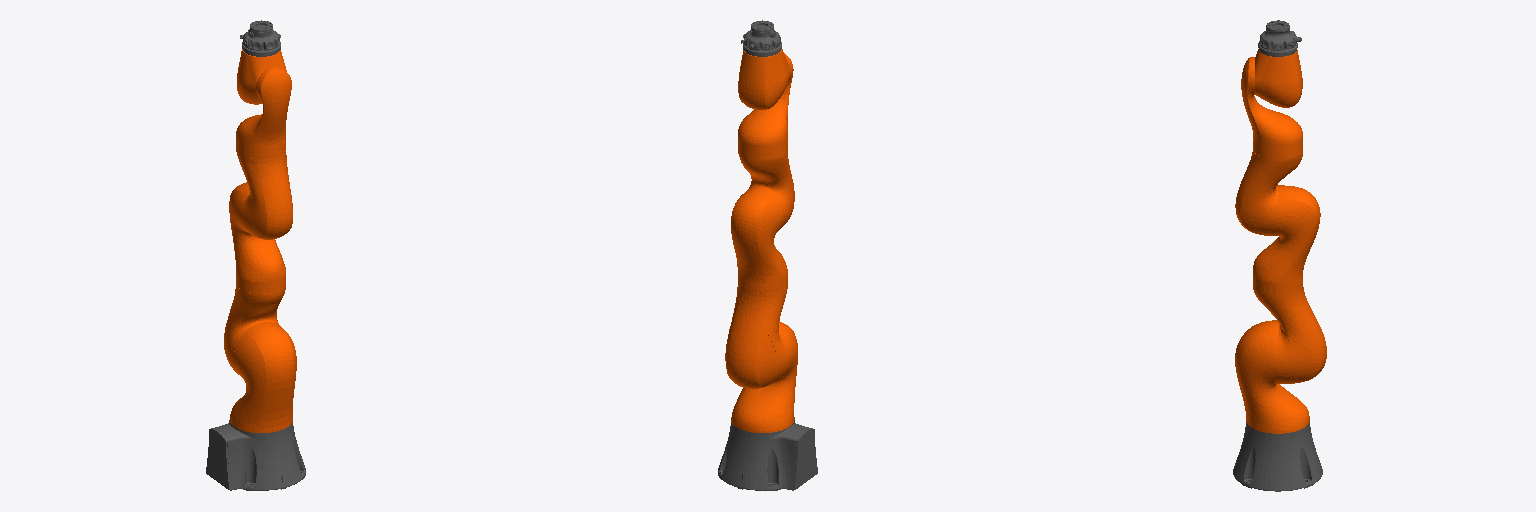
URDF robot description (iiwa14):
<?xml version="1.0" ?>
<!-- =================================================================================== -->
<!-- |    This document was autogenerated by xacro from iiwa_ezgripper.urdf.xacro      | -->
<!-- |    EDITING THIS FILE BY HAND IS NOT RECOMMENDED                                 | -->
<!-- =================================================================================== -->
<robot name="iiwa14">
  <material name="Black">
    <color rgba="0.0 0.0 0.0 1.0"/>
  </material>
  <material name="Blue">
    <color rgba="0.0 0.0 0.8 1.0"/>
  </material>
  <material name="Green">
    <color rgba="0.0 0.8 0.0 1.0"/>
  </material>
  <material name="Grey">
    <color rgba="0.4 0.4 0.4 1.0"/>
  </material>
  <material name="Orange">
    <color rgba="1.0 0.4235294117647059 0.0392156862745098 1.0"/>
  </material>
  <material name="Brown">
    <color rgba="0.8705882352941177 0.8117647058823529 0.7647058823529411 1.0"/>
  </material>
  <material name="Red">
    <color rgba="0.8 0.0 0.0 1.0"/>
  </material>
  <material name="White">
    <color rgba="1.0 1.0 1.0 1.0"/>
  </material>
  <material name="LightGrey">
    <color rgba="0.3 0.3 0.3 1.0"/>
  </material>
  <!--xacro:macro name="ezgripper" params="*origin"-->
  <!-- joints -->
  <!-- transmissions for Gazebo -->
  <gazebo>
    <plugin filename="libgazebo_ros_control.so" name="gazebo_ros_control">
   </plugin>
  </gazebo>
  <!-- Fix to world just for testing -->
  <link name="front_base"/>
  <!--joint between {parent} and link_0-->
  <joint name="front_base_F_base_joint" type="fixed">
    <origin rpy="0 0 0" xyz="0 0 0.015"/>
    <parent link="front_base"/>
    <child link="F_link_0"/>
  </joint>
  <link name="F_link_0">
    <inertial>
      <origin rpy="0 0 0" xyz="-0.1 0 0.07"/>
      <mass value="5"/>
      <inertia ixx="0.05" ixy="0" ixz="0" iyy="0.06" iyz="0" izz="0.03"/>
    </inertial>
    <visual>
      <origin rpy="0 0 0" xyz="0 0 0"/>
      <geometry>
        <mesh filename="package://iiwas_description/meshes/visual/link_0.stl"/>
      </geometry>
      <material name="Grey"/>
    </visual>
    <collision>
      <origin rpy="0 0 0" xyz="0 0 0"/>
      <geometry>
        <mesh filename="package://iiwas_description/meshes/collision/link_0.stl"/>
      </geometry>
      <material name="Grey"/>
    </collision>
    <self_collision_checking>
      <origin rpy="0 0 0" xyz="0 0 0"/>
      <geometry>
        <capsule length="0.25" radius="0.15"/>
      </geometry>
    </self_collision_checking>
  </link>
  <!-- joint between link_0 and link_1 -->
  <joint name="F_joint_1" type="revolute">
    <parent link="F_link_0"/>
    <child link="F_link_1"/>
    <origin rpy="0 0 0" xyz="0 0 0.1575"/>
    <axis xyz="0 0 1"/>
    <limit effort="320" lower="-2.9670597283903604" upper="2.9670597283903604" velocity="1.4835298641951802"/>
    <safety_controller k_position="1" k_velocity="10" soft_lower_limit="-2.9321531433504737" soft_upper_limit="2.9321531433504737"/>
    <dynamics damping="0.5"/>
  </joint>
  <link name="F_link_1">
    <inertial>
      <origin rpy="0 0 0" xyz="0 -0.03 0.12"/>
      <!--        <origin xyz="0.003508 -0.001602 0.171113" rpy="0 0 0"/>  &lt;!&ndash; inertial from sl but in different coordinate system &ndash;&gt;-->
      <mass value="3.947808"/>
      <!--        <inertia ixx="0.004554"  ixy="0.000001"  ixz="-0.000002" iyy="0.004542" iyz="0.000005" izz="0.000289" />-->
      <!--        <inertia ixx="0.4554"  ixy="0.0001"  ixz="-0.0002" iyy="0.4542" iyz="0.0005" izz="0.0289" />-->
      <inertia ixx="0.1" ixy="0" ixz="0" iyy="0.09" iyz="0" izz="0.02"/>
    </inertial>
    <visual>
      <origin rpy="0 0 0" xyz="0 0 0"/>
      <geometry>
        <mesh filename="package://iiwas_description/meshes/visual/link_1.stl"/>
      </geometry>
      <material name="Orange"/>
    </visual>
    <collision>
      <origin rpy="0 0 0" xyz="0 0 0"/>
      <geometry>
        <mesh filename="package://iiwas_description/meshes/collision/link_1.stl"/>
      </geometry>
      <material name="Orange"/>
    </collision>
  </link>
  <!-- joint between link_1 and link_2 -->
  <joint name="F_joint_2" type="revolute">
    <parent link="F_link_1"/>
    <child link="F_link_2"/>
    <origin rpy="1.5707963267948966   0 3.141592653589793" xyz="0 0 0.2025"/>
    <axis xyz="0 0 1"/>
    <limit effort="320" lower="-2.0943951023931953" upper="2.0943951023931953" velocity="1.4835298641951802"/>
    <safety_controller k_position="1" k_velocity="10" soft_lower_limit="-2.0594885173533086" soft_upper_limit="2.0594885173533086"/>
    <dynamics damping="0.5"/>
  </joint>
  <link name="F_link_2">
    <inertial>
      <origin rpy="0 0 0" xyz="0.0003 0.059 0.042"/>
      <!--        <origin xyz="-0.007671 0.166693  -0.003551" rpy="0 0 0"/>  &lt;!&ndash; inertial from sl but in different coordinate system &ndash;&gt;-->
      <mass value="4.502752"/>
      <!--        <inertia ixx="0.000318"  ixy="0.000000"  ixz="0.000007" iyy="0.000100" iyz="-0.000003" izz="0.000419" />-->
      <!--        <inertia ixx="0.0318"  ixy="0.0000"  ixz="0.0007" iyy="0.0100" iyz="-0.0003" izz="0.0419" />-->
      <inertia ixx="0.05" ixy="0" ixz="0" iyy="0.018" iyz="0" izz="0.044"/>
    </inertial>
    <visual>
      <origin rpy="0 0 0" xyz="0 0 0"/>
      <geometry>
        <mesh filename="package://iiwas_description/meshes/visual/link_2.stl"/>
      </geometry>
      <material name="Orange"/>
    </visual>
    <collision>
      <origin rpy="0 0 0" xyz="0 0 0"/>
      <geometry>
        <mesh filename="package://iiwas_description/meshes/collision/link_2.stl"/>
      </geometry>
      <material name="Orange"/>
    </collision>
  </link>
  <!-- joint between link_2 and link_3 -->
  <joint name="F_joint_3" type="revolute">
    <parent link="F_link_2"/>
    <child link="F_link_3"/>
    <origin rpy="1.5707963267948966 0 3.141592653589793" xyz="0 0.2045 0"/>
    <axis xyz="0 0 1"/>
    <limit effort="176" lower="-2.9670597283903604" upper="2.9670597283903604" velocity="1.7453292519943295"/>
    <safety_controller k_position="1" k_velocity="10" soft_lower_limit="-2.9321531433504737" soft_upper_limit="2.9321531433504737"/>
    <dynamics damping="0.5"/>
  </joint>
  <link name="F_link_3">
    <inertial>
      <origin rpy="0 0 0" xyz="0 0.03 0.13"/>
      <!--        <origin xyz="0.002246 0.034918 0.188978" rpy="0 0 0"/> &lt;!&ndash; inertial from sl but in different coordinate system &ndash;&gt;-->
      <mass value="2.455197"/>
      <!--        <inertia ixx="0.002233"  ixy="-0.000046"  ixz="0.000068" iyy="0.002191" iyz="0.000072" izz="0.000725" />-->
      <!--        <inertia ixx="0.2233"  ixy="-0.0046"  ixz="0.0068" iyy="0.2191" iyz="0.0072" izz="0.0725" />-->
      <inertia ixx="0.08" ixy="0" ixz="0" iyy="0.075" iyz="0" izz="0.01"/>
    </inertial>
    <visual>
      <origin rpy="0 0 0" xyz="0 0 0"/>
      <geometry>
        <mesh filename="package://iiwas_description/meshes/visual/link_3.stl"/>
      </geometry>
      <material name="Orange"/>
    </visual>
    <collision>
      <origin rpy="0 0 0" xyz="0 0 0"/>
      <geometry>
        <mesh filename="package://iiwas_description/meshes/collision/link_3.stl"/>
      </geometry>
      <material name="Orange"/>
    </collision>
  </link>
  <!-- joint between link_3 and link_4 -->
  <joint name="F_joint_4" type="revolute">
    <parent link="F_link_3"/>
    <child link="F_link_4"/>
    <origin rpy="1.5707963267948966 0 0" xyz="0 0 0.2155"/>
    <axis xyz="0 0 1"/>
    <limit effort="176" lower="-2.0943951023931953" upper="2.0943951023931953" velocity="1.3089969389957472"/>
    <safety_controller k_position="1" k_velocity="10" soft_lower_limit="-2.0594885173533086" soft_upper_limit="2.0594885173533086"/>
    <dynamics damping="0.5"/>
  </joint>
  <link name="F_link_4">
    <inertial>
      <origin rpy="0 0 0" xyz="0 0.067 0.034"/>
      <!--        <origin xyz="-0.000196  0.052679 0.038182" rpy="0 0 0"/> &lt;!&ndash; inertial from sl but in different coordinate system &ndash;&gt;-->
      <mass value="2.611550"/>
      <!--        <inertia ixx="0.038444"  ixy="0.000880"  ixz="-0.001120" iyy="0.011437" iyz="-0.001113" izz=" 0.049880" />-->
      <!--        <inertia ixx="3.8444"  ixy="0.0880"  ixz="-0.1120" iyy="1.1437" iyz="-0.1113" izz=" 4.9880" />-->
      <inertia ixx="0.03" ixy="0" ixz="0" iyy="0.01" iyz="0" izz="0.029"/>
    </inertial>
    <visual>
      <origin rpy="0 0 0" xyz="0 0 0"/>
      <geometry>
        <mesh filename="package://iiwas_description/meshes/visual/link_4.stl"/>
      </geometry>
      <material name="Orange"/>
    </visual>
    <collision>
      <origin rpy="0 0 0" xyz="0 0 0"/>
      <geometry>
        <mesh filename="package://iiwas_description/meshes/collision/link_4.stl"/>
      </geometry>
      <material name="Orange"/>
    </collision>
  </link>
  <!-- joint between link_4 and link_5 -->
  <joint name="F_joint_5" type="revolute">
    <parent link="F_link_4"/>
    <child link="F_link_5"/>
    <origin rpy="-1.5707963267948966 3.141592653589793 0" xyz="0 0.1845 0"/>
    <axis xyz="0 0 1"/>
    <limit effort="110" lower="-2.9670597283903604" upper="2.9670597283903604" velocity="2.2689280275926285"/>
    <safety_controller k_position="1" k_velocity="10" soft_lower_limit="-2.9321531433504737" soft_upper_limit="2.9321531433504737"/>
    <dynamics damping="0.5"/>
  </joint>
  <link name="F_link_5">
    <inertial>
      <origin rpy="0 0 0" xyz="0.0001 0.021 0.076"/>
      <!--        <origin xyz="0.000054  -0.002367 0.004164" rpy="0 0 0"/> &lt;!&ndash; inertial from sl but in different coordinate system &ndash;&gt;-->
      <mass value="3.410009"/>
      <!--        <inertia ixx="0.002769"  ixy="-0.000008"  ixz="0.000006" iyy="0.002842" iyz="-0.000001" izz="0.000117" />-->
      <!--        <inertia ixx="0.2769"  ixy="-0.0008"  ixz="0.0006" iyy="0.2842" iyz="-0.0001" izz="0.0117" />-->
      <inertia ixx="0.02" ixy="0" ixz="0" iyy="0.018" iyz="0" izz="0.005"/>
    </inertial>
    <visual>
      <origin rpy="0 0 0" xyz="0 0 0"/>
      <geometry>
        <mesh filename="package://iiwas_description/meshes/visual/link_5.stl"/>
      </geometry>
      <material name="Orange"/>
    </visual>
    <collision>
      <origin rpy="0 0 0" xyz="0 0 0"/>
      <geometry>
        <mesh filename="package://iiwas_description/meshes/collision/link_5.stl"/>
      </geometry>
      <material name="Orange"/>
    </collision>
  </link>
  <!-- joint between link_5 and link_6 -->
  <joint name="F_joint_6" type="revolute">
    <parent link="F_link_5"/>
    <child link="F_link_6"/>
    <origin rpy="1.5707963267948966 0 0" xyz="0 0 0.2155"/>
    <axis xyz="0 0 1"/>
    <limit effort="40" lower="-2.0943951023931953" upper="2.0943951023931953" velocity="2.356194490192345"/>
    <safety_controller k_position="1" k_velocity="10" soft_lower_limit="-2.0594885173533086" soft_upper_limit="2.0594885173533086"/>
    <dynamics damping="0.5"/>
  </joint>
  <link name="F_link_6">
    <inertial>
      <origin rpy="0 0 0" xyz="0 0.0006 0.0004"/>
      <!--        <origin xyz="0.000492  0.020190  -0.027496" rpy="0 0 0"/>   &lt;!&ndash; inertial from sl but in different coordinate system &ndash;&gt;-->
      <mass value="3.387949"/>
      <!--        <inertia ixx="0.000500"  ixy="-0.000050"  ixz="-0.000024" iyy="0.002809" iyz="-0.000041" izz="0.002315" />-->
      <!--        <inertia ixx="0.0500"  ixy="-0.0050"  ixz="-0.0024" iyy="0.2809" iyz="-0.0041" izz="0.2315" />-->
      <inertia ixx="0.005" ixy="0" ixz="0" iyy="0.0036" iyz="0" izz="0.0047"/>
    </inertial>
    <visual>
      <origin rpy="0 0 0" xyz="0 0 0"/>
      <geometry>
        <mesh filename="package://iiwas_description/meshes/visual/link_6.stl"/>
      </geometry>
      <material name="Orange"/>
    </visual>
    <collision>
      <origin rpy="0 0 0" xyz="0 0 0"/>
      <geometry>
        <mesh filename="package://iiwas_description/meshes/collision/link_6.stl"/>
      </geometry>
      <material name="Orange"/>
    </collision>
  </link>
  <!-- joint between link_6 and link_7 -->
  <joint name="F_joint_7" type="revolute">
    <parent link="F_link_6"/>
    <child link="F_link_7"/>
    <origin rpy="-1.5707963267948966 3.141592653589793 0" xyz="0 0.081 0"/>
    <axis xyz="0 0 1"/>
    <limit effort="40" lower="-3.0543261909900763" upper="3.0543261909900763" velocity="2.356194490192345"/>
    <safety_controller k_position="1" k_velocity="10" soft_lower_limit="-3.01941960595019" soft_upper_limit="3.01941960595019"/>
    <dynamics damping="0.5"/>
  </joint>
  <link name="F_link_7">
    <inertial>
      <origin rpy="0 0 0" xyz="0 0 0.02"/>
      <!--        <origin xyz="0.034656 0.023242 -0.009623" rpy="0 0 0"/> &lt;!&ndash; inertial from sl but in different coordinate system &ndash;&gt;-->
      <mass value="0.354321"/>
      <!--        <inertia ixx="0.007946"  ixy="0.000221"  ixz="-0.000294" iyy=" 0.010889" iyz="-0.000294" izz="0.002944" />-->
      <!--        <inertia ixx="0.7946"  ixy="0.0221"  ixz="-0.0294" iyy=" 1.0889" iyz="-0.0294" izz="0.2944" />-->
      <inertia ixx="0.001" ixy="0" ixz="0" iyy="0.001" iyz="0" izz="0.001"/>
    </inertial>
    <visual>
      <origin rpy="0 0 0" xyz="0 0 0"/>
      <geometry>
        <mesh filename="package://iiwas_description/meshes/visual/link_7.stl"/>
      </geometry>
      <material name="Grey"/>
    </visual>
    <collision>
      <origin rpy="0 0 0" xyz="0 0 0"/>
      <geometry>
        <mesh filename="package://iiwas_description/meshes/collision/link_7.stl"/>
      </geometry>
      <material name="Grey"/>
    </collision>
  </link>
  <joint name="F_SAKE" type="fixed">
    <parent link="F_link_7"/>
    <child link="F_link_ee"/>
    <origin rpy="0 0 0" xyz="0 0 0.07"/>
  </joint>
  <link name="F_link_ee">
    <inertial>
      <origin rpy="0 0 0" xyz="0 0 0.0"/>
      <mass value="0.0"/>
      <inertia ixx="0.0" ixy="0.0" ixz="0.0" iyy="0.0" iyz="0.0" izz="0.0"/>
    </inertial>
  </link>
  <!-- Link0 -->
  <gazebo reference="F_link_0">
    <material>Gazebo/Grey</material>
    <mu1>0.2</mu1>
    <mu2>0.2</mu2>
    <selfCollide>0</selfCollide>
  </gazebo>
  <!-- Link1 -->
  <gazebo reference="F_link_1">
    <material>Gazebo/Orange</material>
    <mu1>0.2</mu1>
    <mu2>0.2</mu2>
    <selfCollide>0</selfCollide>
  </gazebo>
  <!-- Link2 -->
  <gazebo reference="F_link_2">
    <material>Gazebo/Orange</material>
    <mu1>0.2</mu1>
    <mu2>0.2</mu2>
    <selfCollide>0</selfCollide>
  </gazebo>
  <!-- Link3 -->
  <gazebo reference="F_link_3">
    <material>Gazebo/Orange</material>
    <mu1>0.2</mu1>
    <mu2>0.2</mu2>
    <selfCollide>0</selfCollide>
  </gazebo>
  <!-- Link4 -->
  <gazebo reference="F_link_4">
    <material>Gazebo/Orange</material>
    <mu1>0.2</mu1>
    <mu2>0.2</mu2>
    <selfCollide>0</selfCollide>
  </gazebo>
  <!-- Link5 -->
  <gazebo reference="F_link_5">
    <material>Gazebo/Orange</material>
    <mu1>0.2</mu1>
    <mu2>0.2</mu2>
    <selfCollide>0</selfCollide>
  </gazebo>
  <!-- Link6 -->
  <gazebo reference="F_link_6">
    <material>Gazebo/Orange</material>
    <mu1>0.2</mu1>
    <mu2>0.2</mu2>
    <selfCollide>0</selfCollide>
  </gazebo>
  <!-- Link7 -->
  <gazebo reference="F_link_7">
    <material>Gazebo/Grey</material>
    <mu1>0.2</mu1>
    <mu2>0.2</mu2>
    <selfCollide>0</selfCollide>
  </gazebo>
  <transmission name="F_tran_1">
    <robotNamespace>/F</robotNamespace>
    <type>transmission_interface/SimpleTransmission</type>
    <joint name="F_joint_1">
      <hardwareInterface>hardware_interface/PositionJointInterface</hardwareInterface>
    </joint>
    <actuator name="F_motor_1">
      <hardwareInterface>hardware_interface/PositionJointInterface</hardwareInterface>
      <mechanicalReduction>1</mechanicalReduction>
    </actuator>
  </transmission>
  <transmission name="F_tran_2">
    <robotNamespace>/F</robotNamespace>
    <type>transmission_interface/SimpleTransmission</type>
    <joint name="F_joint_2">
      <hardwareInterface>hardware_interface/PositionJointInterface</hardwareInterface>
    </joint>
    <actuator name="F_motor_2">
      <hardwareInterface>hardware_interface/PositionJointInterface</hardwareInterface>
      <mechanicalReduction>1</mechanicalReduction>
    </actuator>
  </transmission>
  <transmission name="F_tran_3">
    <robotNamespace>/F</robotNamespace>
    <type>transmission_interface/SimpleTransmission</type>
    <joint name="F_joint_3">
      <hardwareInterface>hardware_interface/PositionJointInterface</hardwareInterface>
    </joint>
    <actuator name="F_motor_3">
      <hardwareInterface>hardware_interface/PositionJointInterface</hardwareInterface>
      <mechanicalReduction>1</mechanicalReduction>
    </actuator>
  </transmission>
  <transmission name="F_tran_4">
    <robotNamespace>/F</robotNamespace>
    <type>transmission_interface/SimpleTransmission</type>
    <joint name="F_joint_4">
      <hardwareInterface>hardware_interface/PositionJointInterface</hardwareInterface>
    </joint>
    <actuator name="F_motor_4">
      <hardwareInterface>hardware_interface/PositionJointInterface</hardwareInterface>
      <mechanicalReduction>1</mechanicalReduction>
    </actuator>
  </transmission>
  <transmission name="F_tran_5">
    <robotNamespace>/F</robotNamespace>
    <type>transmission_interface/SimpleTransmission</type>
    <joint name="F_joint_5">
      <hardwareInterface>hardware_interface/PositionJointInterface</hardwareInterface>
    </joint>
    <actuator name="F_motor_5">
      <hardwareInterface>hardware_interface/PositionJointInterface</hardwareInterface>
      <mechanicalReduction>1</mechanicalReduction>
    </actuator>
  </transmission>
  <transmission name="F_tran_6">
    <robotNamespace>/F</robotNamespace>
    <type>transmission_interface/SimpleTransmission</type>
    <joint name="F_joint_6">
      <hardwareInterface>hardware_interface/PositionJointInterface</hardwareInterface>
    </joint>
    <actuator name="F_motor_6">
      <hardwareInterface>hardware_interface/PositionJointInterface</hardwareInterface>
      <mechanicalReduction>1</mechanicalReduction>
    </actuator>
  </transmission>
  <transmission name="F_tran_7">
    <robotNamespace>/F</robotNamespace>
    <type>transmission_interface/SimpleTransmission</type>
    <joint name="F_joint_7">
      <hardwareInterface>hardware_interface/PositionJointInterface</hardwareInterface>
    </joint>
    <actuator name="F_motor_7">
      <hardwareInterface>hardware_interface/PositionJointInterface</hardwareInterface>
      <mechanicalReduction>1</mechanicalReduction>
    </actuator>
  </transmission>
  <!-- links -->
  <link name="F_ezgripper_palm_link">
    <visual>
      <origin rpy="0 0 0" xyz="0 0 0"/>
      <geometry>
        <mesh filename="package://ezgripper_driver/meshes/ezgripper_gen2/SAKE_Palm_Dual_Gen2.stl"/>
      </geometry>
    </visual>
    <collision>
      <origin rpy="0 0 0" xyz="0 0 0"/>
      <geometry>
        <mesh filename="package://ezgripper_driver/meshes/ezgripper_gen2/SAKE_Palm_Dual_Gen2.stl"/>
      </geometry>
    </collision>
    <inertial>
      <mass value=".3"/>
      <inertia ixx="0.01" ixy="0.0" ixz="0.0" iyy="0.01" iyz="0.0" izz="0.01"/>
    </inertial>
  </link>
  <joint name="F_ezgripper_connect" type="fixed">
    <origin rpy="-1.5707963267948966 -1.5707963267948966 0.0" xyz="0.0 0.0 0.0"/>
    <!-- <origin rpy="0 0 0" xyz="0.049 0.0 0.2"/> -->
    <parent link="F_link_ee"/>
    <child link="F_ezgripper_palm_link"/>
    <axis xyz="0 0 0"/>
    <limit effort="0" lower="-1.57075" upper="0.25" velocity="3.67"/>
  </joint>
  <ezgripper_finger_L1 postfix="1" prefix="F" reflect="1"/>
  <ezgripper_finger_L1 postfix="2" prefix="F" reflect="1"/>
  <ezgripper_finger_L2 postfix="1" prefix="F" reflect="1"/>
  <ezgripper_finger_L2 postfix="2" prefix="F" reflect="1"/>
  <ezgripper_knuckle_palm_L1 mimic_test="false" postfix="1" prefix="F" reflectR="1" reflectY="1" reflectZ="1"/>
  <ezgripper_knuckle_palm_L1 mimic_test="true" postfix="2" prefix="F" reflectR="-1" reflectY="-1" reflectZ="1"/>
  <ezgripper_knuckle_L1_L2 mimic_test="false" postfix="1" prefix="F" reflectR="-1" reflectY="1" reflectZ="1"/>
  <ezgripper_knuckle_L1_L2 mimic_test="true" postfix="2" prefix="F" reflectR="1" reflectY="-1" reflectZ="1"/>
  <ezgripper_knuckle_trans postfix="L1_L2_1" prefix="F"/>
  <gazebo_knuckle_jsp prefix="F"/>
  <gazebo reference="front_base">
    <kinematic>true</kinematic>
  </gazebo>
  <!--    <gazebo>-->
  <!--        <plugin name="gazebo_ros_control" filename="libgazebo_ros_control.so">-->
  <!--        </plugin>-->
  <!--    </gazebo>-->
</robot>

--- Render facts (derived) ---
3 views of the same robot in one strip: view 1: azimuth 30°, elevation 25°; view 2: azimuth 150°, elevation 25°; view 3: azimuth 270°, elevation 25° (orthographic).
Model iiwa14 with 11 links and 10 joints (7 revolute, 3 fixed), rooted at front_base, posed every joint at zero.
Visible links, largest first — view 1: F_link_1, F_link_0, F_link_4, F_link_5, F_link_3, F_link_2, F_link_6, F_link_7; view 2: F_link_0, F_link_2, F_link_3, F_link_1, F_link_5, F_link_6, F_link_4, F_link_7; view 3: F_link_1, F_link_0, F_link_3, F_link_2, F_link_4, F_link_5, F_link_6, F_link_7.
Boxes of the visible links, bbox=[...] form: F_link_1: bbox=[230, 322, 296, 432]; F_link_0: bbox=[206, 420, 305, 490]; F_link_4: bbox=[236, 151, 292, 239]; F_link_5: bbox=[236, 67, 291, 158]; F_link_3: bbox=[229, 182, 285, 293]; F_link_2: bbox=[224, 285, 285, 374]; F_link_6: bbox=[237, 49, 286, 104]; F_link_7: bbox=[240, 20, 280, 56]; F_link_0: bbox=[718, 420, 817, 490]; F_link_2: bbox=[725, 285, 789, 388]; F_link_3: bbox=[731, 187, 787, 293]; F_link_1: bbox=[731, 321, 797, 432]; F_link_5: bbox=[738, 53, 793, 158]; F_link_6: bbox=[738, 49, 790, 109]; F_link_4: bbox=[738, 151, 794, 230]; F_link_7: bbox=[741, 20, 781, 56]; F_link_1: bbox=[1235, 320, 1309, 433]; F_link_0: bbox=[1233, 422, 1322, 491]; F_link_3: bbox=[1253, 185, 1320, 293]; F_link_2: bbox=[1253, 286, 1326, 383]; F_link_4: bbox=[1235, 151, 1302, 235]; F_link_5: bbox=[1241, 57, 1302, 158]; F_link_6: bbox=[1255, 49, 1302, 107]; F_link_7: bbox=[1258, 20, 1301, 56].
Bounding box of the posed robot: 0.2572 × 0.2535 × 1.33 m (x, y, z).
8 mesh visuals loaded from 9 distinct referenced files (8 binary STL); not drawn: 1 (reference not matched to a file when rendering).